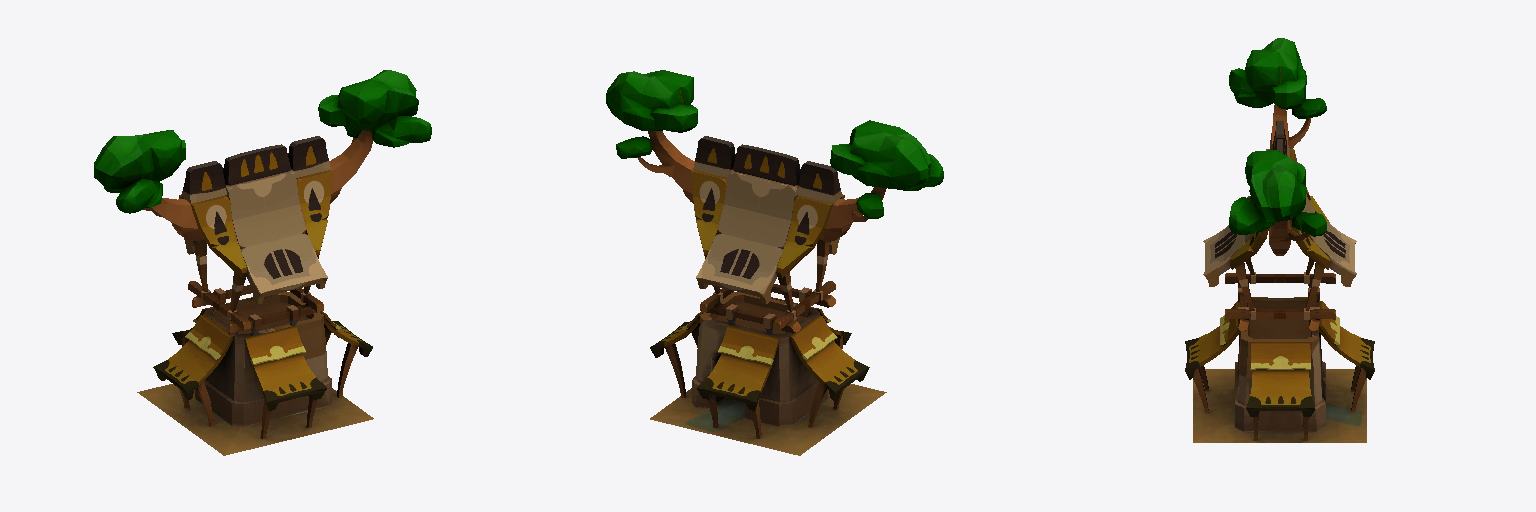
3 renders of one model, left to right at view 1: azimuth 30°, elevation 25°; view 2: azimuth 150°, elevation 25°; view 3: azimuth 270°, elevation 25°, orthographic.
Visible parts, largest first — view 1: BUD_Building_C_01, BUD_Building_C_02; view 2: BUD_Building_C_01, BUD_Building_C_02; view 3: BUD_Building_C_01, BUD_Building_C_02.
Boxes of the visible parts, x1,y1,x2,y2 form: BUD_Building_C_01: [137, 136, 373, 455]; BUD_Building_C_02: [94, 70, 431, 240]; BUD_Building_C_01: [650, 136, 886, 455]; BUD_Building_C_02: [606, 70, 943, 241]; BUD_Building_C_01: [1185, 121, 1374, 442]; BUD_Building_C_02: [1229, 38, 1326, 255].
Size of the model in its own units: 7.69 by 6.9 by 3.93.
Materials: 2 (2 with a texture image).